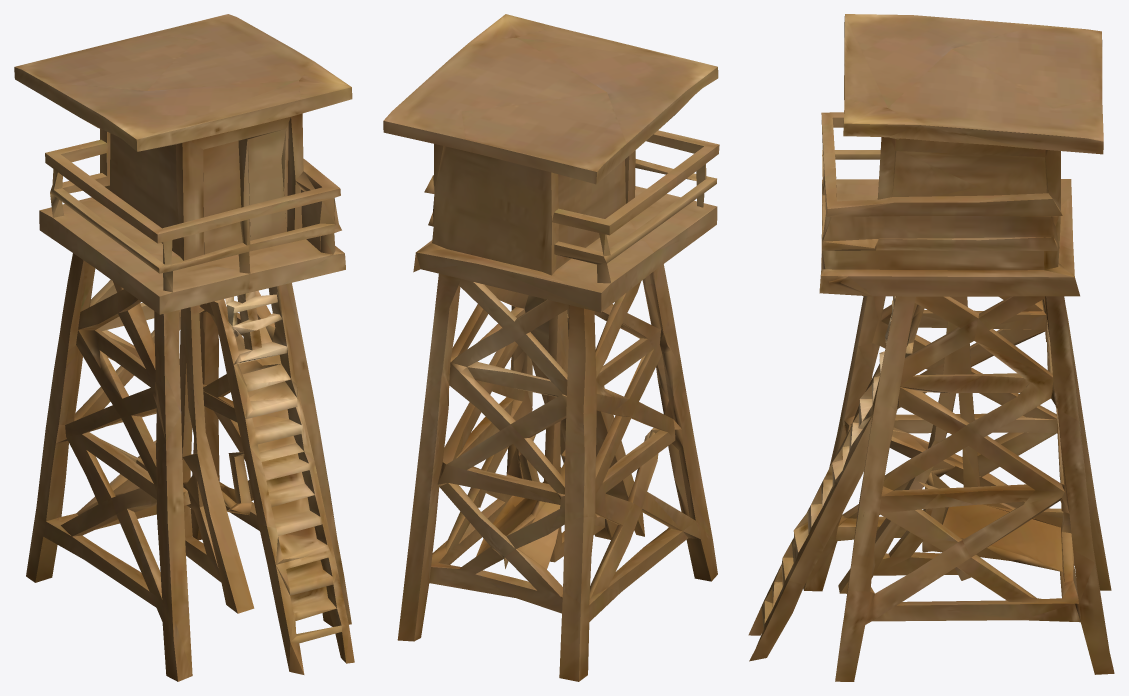
File: m2LookoutTower.glb
3 views of the same model, side by side, from view 1: azimuth 30°, elevation 25°; view 2: azimuth 150°, elevation 25°; view 3: azimuth 270°, elevation 25° (orthographic). The views are drawn at different scales.
Parts seen in each view (by area): view 1: model; view 2: model; view 3: model.
Part boxes in pixels (x1=…): model: x1=14, y1=14, x2=354, y2=681; model: x1=383, y1=14, x2=719, y2=681; model: x1=748, y1=14, x2=1114, y2=681.
Bounding box in the file's own units: 0.795 × 1.88 × 1.12.
1 material, 1 textured.
